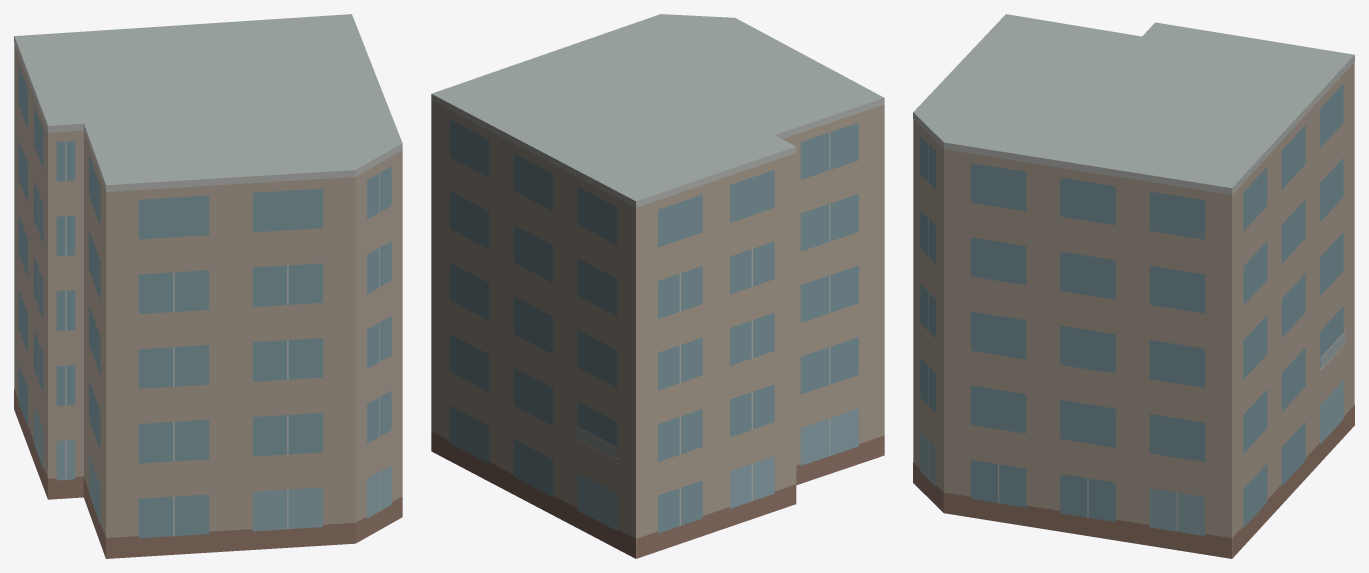
File: survey-upis-32871851.glb
3 views of the same model, side by side, from view 1: azimuth 30°, elevation 25°; view 2: azimuth 150°, elevation 25°; view 3: azimuth 270°, elevation 25° (orthographic). The views are drawn at different scales.
Parts seen in each view (by area): view 1: survey-upis-32871851.tmp; view 2: survey-upis-32871851.tmp; view 3: survey-upis-32871851.tmp.
Part boxes in pixels (bbox=[...]): survey-upis-32871851.tmp: bbox=[14, 14, 402, 558]; survey-upis-32871851.tmp: bbox=[431, 14, 884, 558]; survey-upis-32871851.tmp: bbox=[913, 14, 1354, 558].
Bounding box in the file's own units: 13.41 × 13.3 × 14.37.
